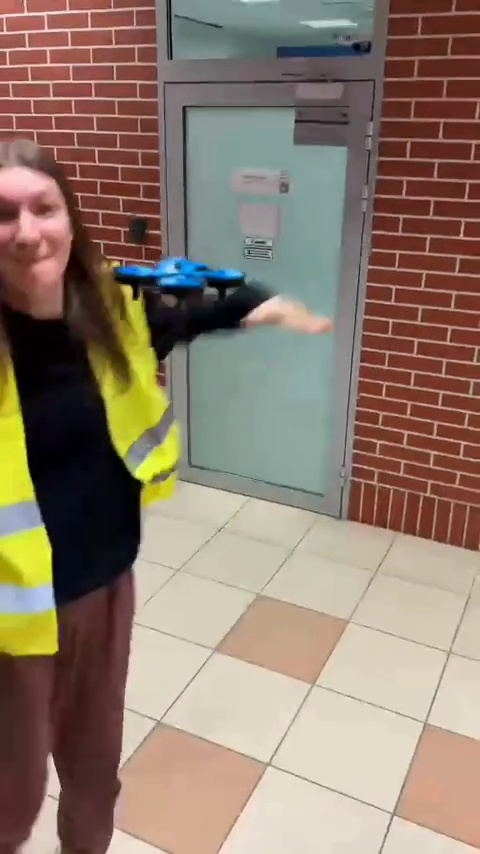drone: (114, 255, 246, 304)
vest: (0, 142, 312, 852)
